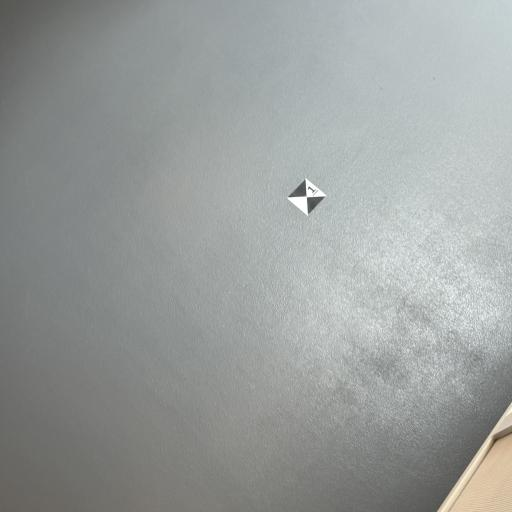target1: (288, 176, 329, 216)
